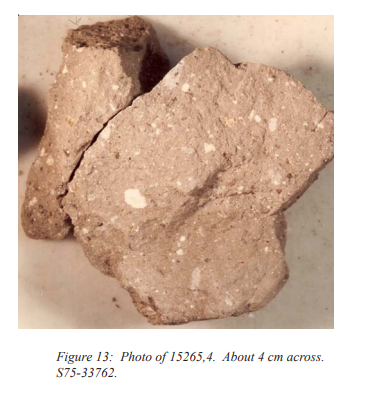Breccia: (25, 18, 318, 328), (62, 23, 292, 287)
